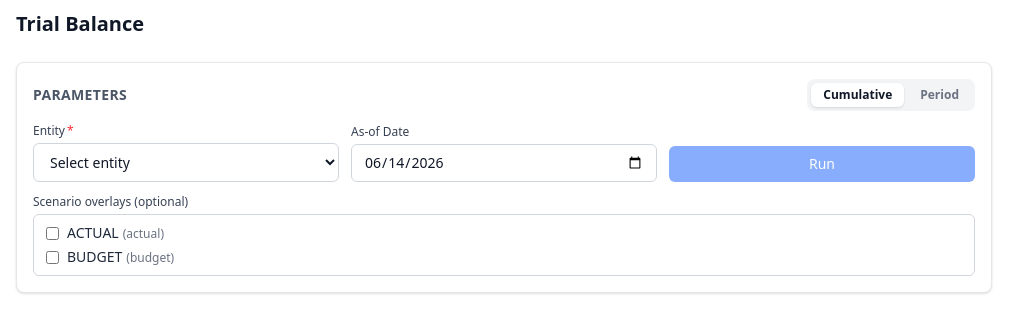
Test: TrialBalancesPage › enables Run and fetches TB after entity selected
Later steps or results of the test are not shown.
Select "ACME — Acme Corp" in the dropdown: {"x": 186, "y": 162} 33,143 -> 339,182
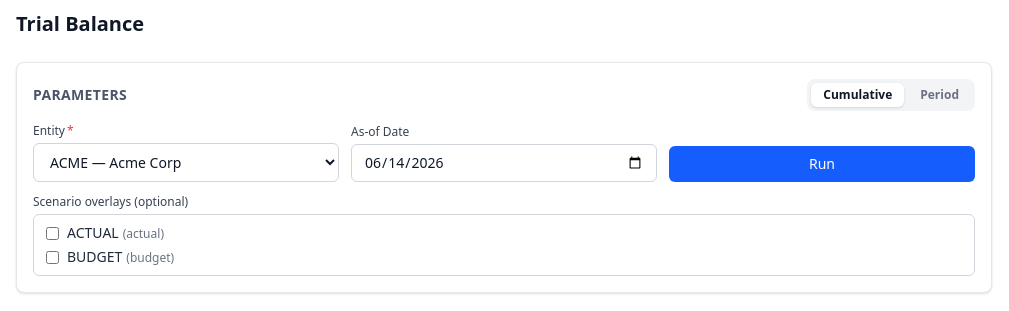
Expected: the button "Run" is enabled, 669,146 -> 975,182
